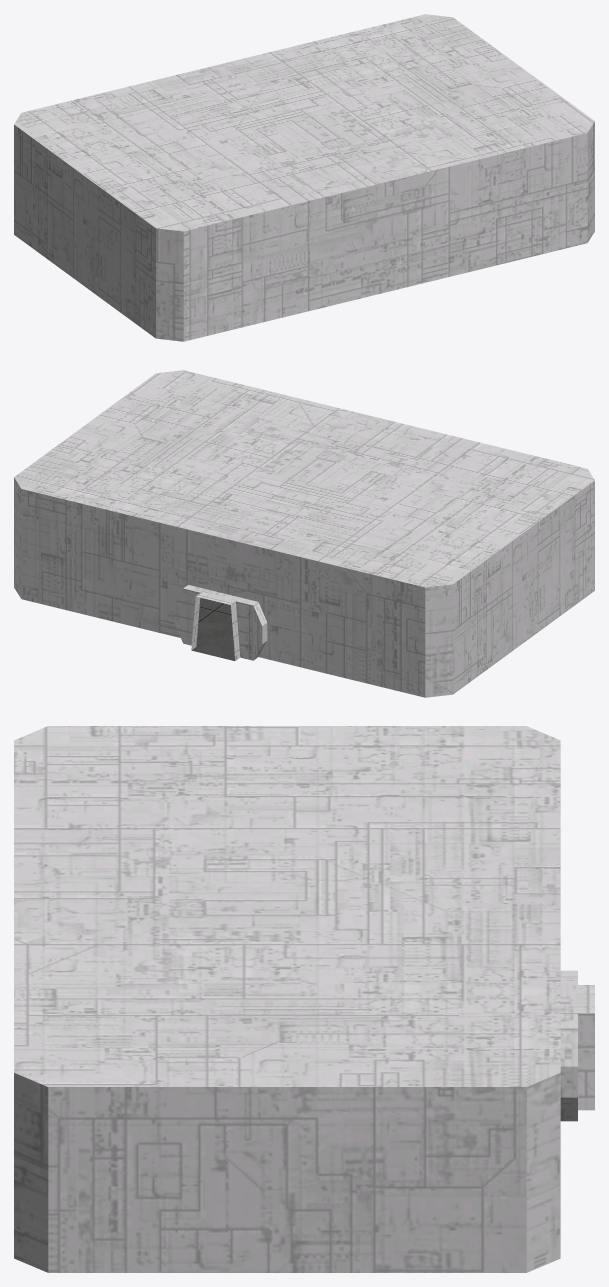
Rendered from thm_spc_star_destroyer_s01_r8_detention_mesh_r8.fbx.
3 renders of one model, top to bottom at view 1: azimuth 30°, elevation 25°; view 2: azimuth 150°, elevation 25°; view 3: azimuth 270°, elevation 25°, orthographic. The views are drawn at different scales.
Visible parts, largest first — view 1: mesh_node; view 2: mesh_node; view 3: mesh_node.
Boxes of the visible parts, x1,y1,x2,y2 form: mesh_node: (14,14,594,341); mesh_node: (14,370,594,697); mesh_node: (14,726,594,1272).
Size of the model in its own units: 25 by 6 by 17.
2 materials, 2 textured.
